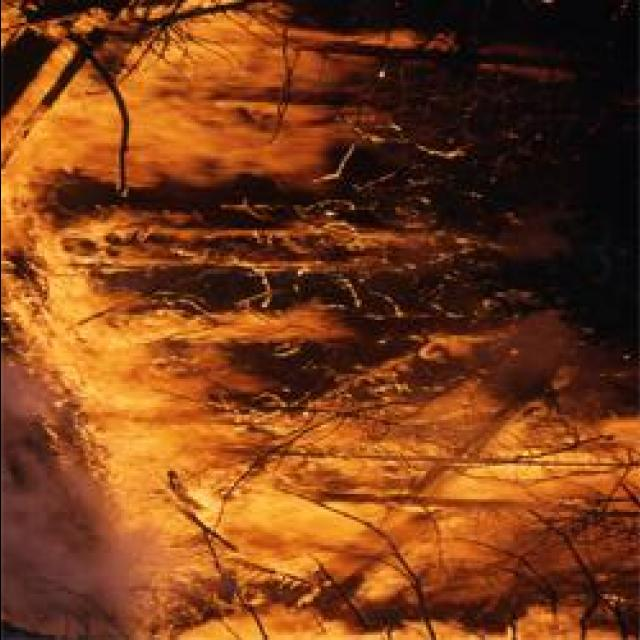fire: (108, 100, 298, 178), (142, 32, 272, 114), (100, 400, 186, 482), (70, 324, 144, 406), (41, 94, 118, 169), (250, 508, 350, 562), (190, 615, 344, 640), (236, 308, 336, 344), (46, 218, 110, 272), (450, 467, 548, 500), (129, 316, 226, 348), (0, 145, 46, 203), (52, 266, 90, 326), (607, 412, 640, 445)
smoke: (0, 463, 90, 584), (62, 524, 162, 594), (1, 368, 46, 419)
